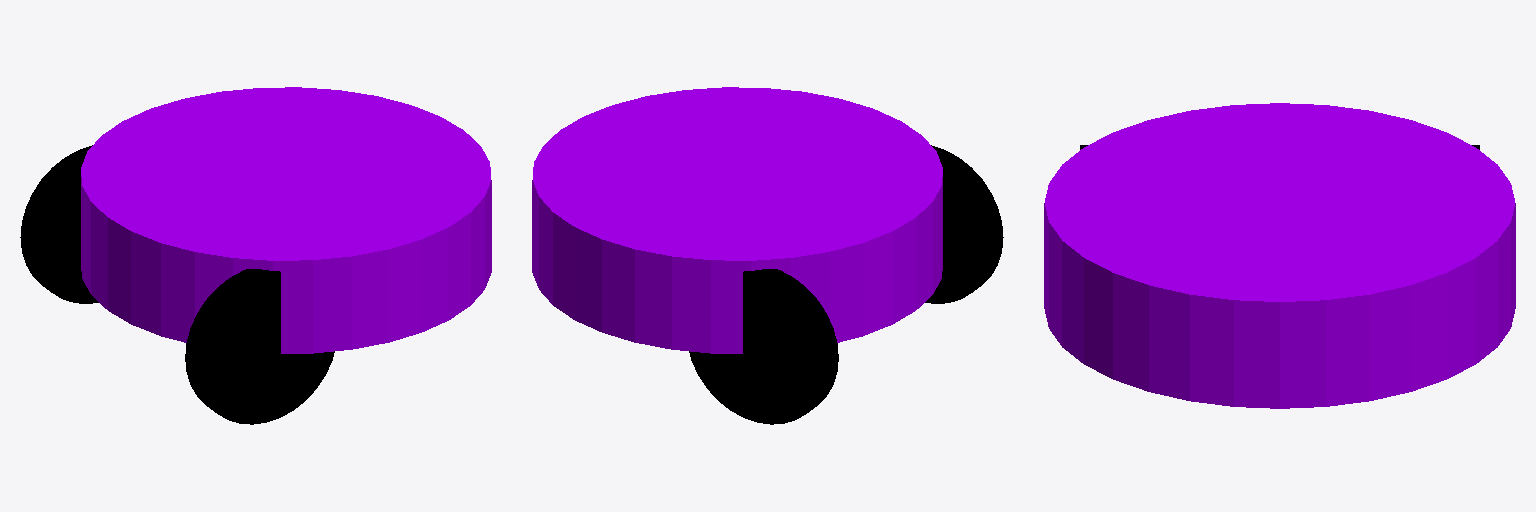
The robot description file, URDF, robot "differential_drive_robot":
<?xml version="1.0"?>
<robot name="differential_drive_robot">

  <!-- Base Link -->
  <link name="base_link">
    <visual>
      <geometry>
        <cylinder length="0.25" radius="0.5"/>
      </geometry>
      <material name="purple">
        <color rgba="0.7 0 1 1"/>
      </material>
    </visual>
    <collision>
      <geometry>
        <cylinder length="0.25" radius="0.5"/>
      </geometry>
    </collision>
    <inertial>
      <mass value="10.0"/>
      <inertia ixx="1.0" ixy="0.0" ixz="0.0" iyy="1.0" iyz="0.0" izz="1.0"/>
    </inertial>
  </link>

  <!-- Left Wheel -->
  <link name="left_wheel">
    <visual>
      <geometry>
        <cylinder length="0.05" radius="0.2"/>
      </geometry>
      <material name="black">
        <color rgba="0 0 0 1"/>
      </material>
    </visual>
    <collision>
      <geometry>
        <cylinder length="0.05" radius="0.2"/>
      </geometry>
    </collision>
    <inertial>
      <mass value="1.0"/>
      <inertia ixx="0.01" ixy="0.0" ixz="0.0" iyy="0.01" iyz="0.0" izz="0.01"/>
    </inertial>
  </link>

  <!-- Right Wheel -->
  <link name="right_wheel">
    <visual>
      <geometry>
        <cylinder length="0.05" radius="0.2"/>
      </geometry>
      <material name="black">
        <color rgba="0 0 0 1"/>
      </material>
    </visual>
    <collision>
      <geometry>
        <cylinder length="0.05" radius="0.2"/>
      </geometry>
    </collision>
    <inertial>
      <mass value="1.0"/>
      <inertia ixx="0.01" ixy="0.0" ixz="0.0" iyy="0.01" iyz="0.0" izz="0.01"/>
    </inertial>
  </link>

  <!-- Joints -->
  <joint name="left_wheel_joint" type="continuous">
    <parent link="base_link"/>
    <child link="left_wheel"/>
    <origin xyz="-0.3 0.4 -0.1" rpy="0 1.5708 1.5708"/>
    <axis xyz="0 0 1"/>
  </joint>

  <joint name="right_wheel_joint" type="continuous">
    <parent link="base_link"/>
    <child link="right_wheel"/>
    <origin xyz="-0.3 -0.4 -0.1" rpy="0 1.5708 1.5708"/>
    <axis xyz="0 0 1"/>
  </joint>

</robot>

--- Render facts (derived) ---
3 views of the same robot in one strip: view 1: azimuth 30°, elevation 25°; view 2: azimuth 150°, elevation 25°; view 3: azimuth 270°, elevation 25° (orthographic).
Robot: differential_drive_robot — 3 links, 2 joints (2 continuous); root link base_link; default pose: all joints at 0.
Visible links, largest first — view 1: base_link, right_wheel, left_wheel; view 2: base_link, left_wheel, right_wheel; view 3: base_link.
Link boxes in pixels (bbox=[...]): base_link: bbox=[81, 87, 491, 353]; right_wheel: bbox=[185, 269, 334, 424]; left_wheel: bbox=[20, 145, 98, 303]; base_link: bbox=[532, 87, 942, 353]; left_wheel: bbox=[689, 269, 838, 424]; right_wheel: bbox=[925, 145, 1003, 303]; base_link: bbox=[1044, 103, 1515, 408].
Bounding box of the posed robot: 1 × 1 × 0.425 m (x, y, z).
Geometry: primitives only (box / cylinder / sphere), no mesh files.